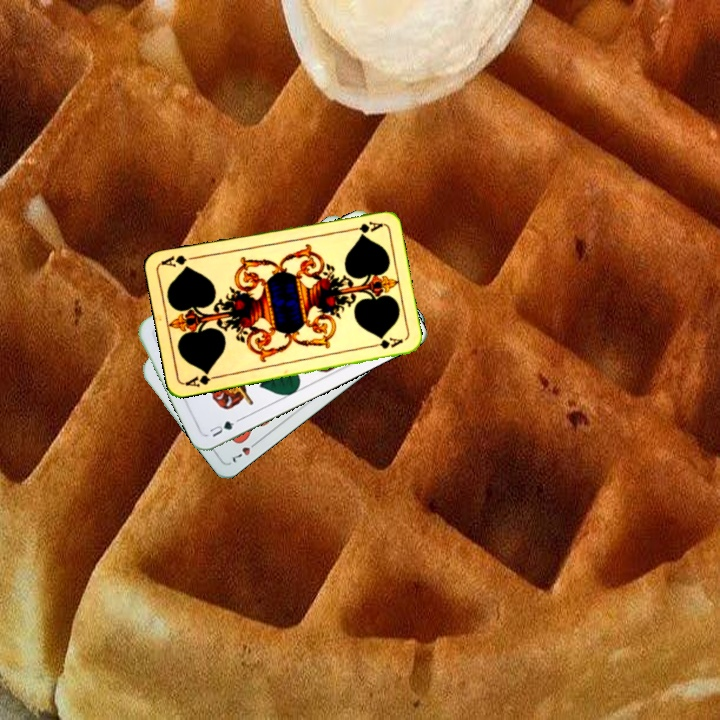GA: (181, 367, 222, 390), (344, 217, 385, 235)
GU: (205, 417, 237, 440)
H7: (228, 436, 262, 466)
